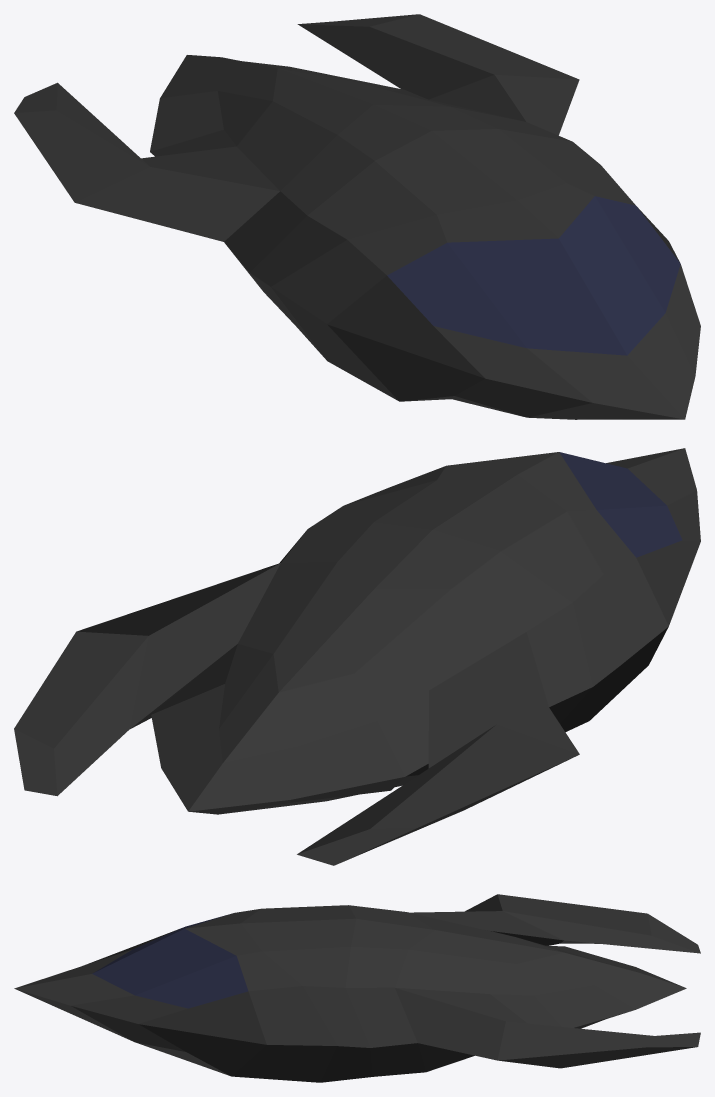
Rendered from Spaceship (1).fbx.
The picture shows the model from 3 angles, top to bottom: view 1: azimuth 30°, elevation 25°; view 2: azimuth 150°, elevation 25°; view 3: azimuth 270°, elevation 25°; orthographic projection. The views are drawn at different scales.
Visible parts, largest first — view 1: Cube; view 2: Cube; view 3: Cube.
Boxes of the visible parts, bbox=[...] form: Cube: bbox=[14, 14, 700, 419]; Cube: bbox=[14, 448, 700, 865]; Cube: bbox=[14, 894, 700, 1082].
Size of the model in its own units: 389 by 144 by 678.
